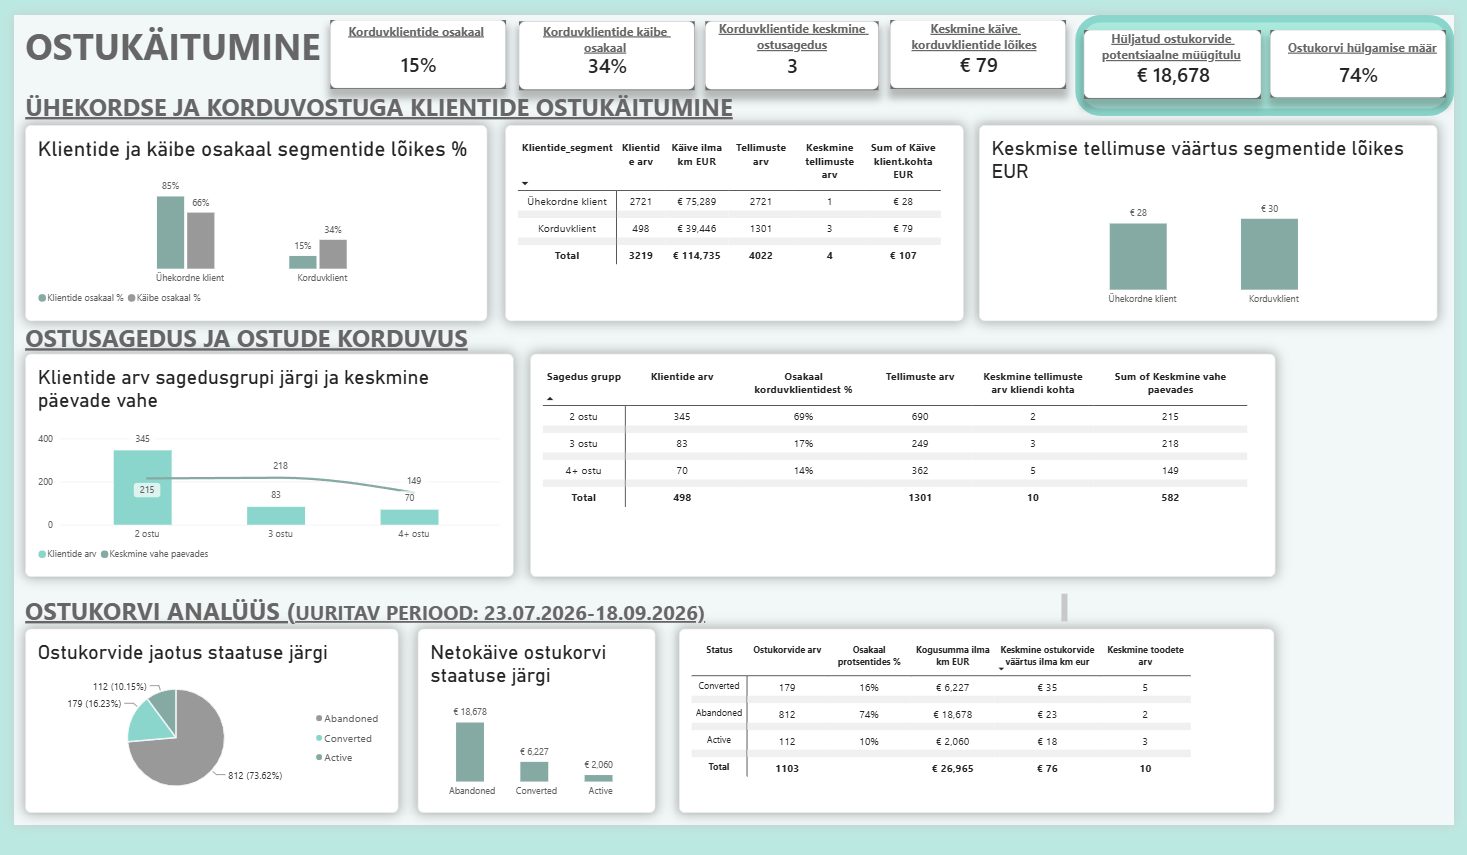

The dashboard page shown, as its layout file describes it:
{"tool":"powerbi","page":{"name":"OSTUKÄITUMINE","canvas":[1920,1080],"ordinal":1},"visuals":[{"type":"shape","box":[1414.7,0,505.3,134.7],"z":0},{"type":"textbox","box":[14.5,8.7,440.6,71.2],"z":1000},{"type":"cardVisual","fields":{"Data":["Avg(2 1 Ühekord kord kl käitumine.Klientide osakaal %)"]},"box":[421.4,6.3,234.5,91.9],"z":2000},{"type":"cardVisual","fields":{"Data":["Avg(2 1 Ühekord kord kl käitumine.Käibe osakaal %)"]},"box":[673.3,7.9,234.5,91.9],"z":3000},{"type":"cardVisual","fields":{"Data":["Sum(2 1 Ühekord kord kl käitumine.Käive klient.kohta EUR)"]},"box":[1169.1,6.3,234.5,91.9],"z":4000},{"type":"cardVisual","fields":{"Data":["2 2 Ostusagedus ja ostude kord.Korduvklientide_ostusagedus"]},"box":[922,7.9,231.3,91.9],"z":5000},{"type":"cardVisual","fields":{"Data":["Sum(2 3 Ostukorvi analüüs.Osakaal protsentides % vana)"]},"box":[1674.5,20.6,234.5,90.3],"z":6000},{"type":"clusteredColumnChart","title":"Klientide ja käibe osakaal segmentide lõikes %","fields":{"Category":["2 1 Ühekord kord kl käitumine.Klientide_segment"],"Y":["Sum(2 1 Ühekord kord kl käitumine.Klientide_osakaal_%)","Avg(2 1 Ühekord kord kl käitumine.Käibe_osakaal_%)"]},"box":[14.3,147.3,616.2,261.4],"z":7000},{"type":"clusteredColumnChart","title":"Keskmise tellimuse väärtus segmentide lõikes EUR","fields":{"Category":["2 1 Ühekord kord kl käitumine.Klientide_segment"],"Y":["Sum(2 1 Ühekord kord kl käitumine.Keskmine_tellimus_ilma_km_EUR)"]},"box":[1286.3,147.3,611.5,261.4],"z":8000},{"type":"pivotTable","fields":{"Rows":["2 1 Ühekord kord kl käitumine.Klientide_segment"],"Values":["Sum(2 1 Ühekord kord kl käitumine.Klientide_arv)","Sum(2 1 Ühekord kord kl käitumine.Käive ilma km EUR)","Sum(2 1 Ühekord kord kl käitumine.Tellimuste_arv)","Sum(2 1 Ühekord kord kl käitumine.Keskmine_tellimuste_arv)","Sum(2 1 Ühekord kord kl käitumine.Käive_klient_kohta_EUR)"]},"box":[654.3,147.3,611.5,261.4],"z":9000},{"type":"lineStackedColumnComboChart","title":"Klientide arv sagedusgrupi järgi ja keskmine päevade vahe","fields":{"Category":["2 2 Ostusagedus ja ostude kord.Sagedus_grupp"],"Y":["Sum(2 2 Ostusagedus ja ostude kord.Klientide_arv)"],"Y2":["Sum(2 2 Ostusagedus ja ostude kord.Keskmine vahe paevades)"]},"box":[14.3,451.5,651.1,297.8],"z":10000},{"type":"pivotTable","fields":{"Rows":["2 2 Ostusagedus ja ostude kord.Sagedus grupp"],"Values":["Sum(2 2 Ostusagedus ja ostude kord.Klientide arv)","2 2 Ostusagedus ja ostude kord.Osakaal korduvklientidest %","Sum(2 2 Ostusagedus ja ostude kord.Tellimuste arv)","Sum(2 2 Ostusagedus ja ostude kord.Keskmine tellimuste arv kliendi kohta)","Sum(2 2 Ostusagedus ja ostude kord.Keskmine vahe paevades)"]},"box":[687.5,451.5,993.3,297.8],"z":11000},{"type":"pieChart","title":"Ostukorvide jaotus staatuse järgi","fields":{"Category":["2 3 Ostukorvi analüüs.Status"],"Y":["Sum(2 3 Ostukorvi analüüs.Ostukorvide arv)"]},"box":[14.3,819,497.4,245.5],"z":12000},{"type":"clusteredColumnChart","title":"Netokäive ostukorvi staatuse järgi","fields":{"Category":["2 3 Ostukorvi analüüs.Status"],"Y":["Sum(2 3 Ostukorvi analüüs.Kogusumma ilma km EUR)"]},"box":[538.6,819,316.8,245.5],"z":13000},{"type":"pivotTable","fields":{"Rows":["2 3 Ostukorvi analüüs.Status"],"Values":["Sum(2 3 Ostukorvi analüüs.Ostukorvide arv)","2 3 Ostukorvi analüüs.Osakaal protsentides %","Sum(2 3 Ostukorvi analüüs.Kogusumma ilma km EUR)","Sum(2 3 Ostukorvi analüüs.Keskmine ostukorvide väärtus ilma km eur)","Sum(2 3 Ostukorvi analüüs.Keskmine toodete arv)"]},"box":[887.1,819,793.7,245.5],"z":14000},{"type":"textbox","box":[14.3,771.5,1389.3,47.5],"z":15000},{"type":"textbox","box":[14.3,99.8,958.4,47.5],"z":16000},{"type":"textbox","box":[14.3,408.7,763.6,84],"z":17000},{"type":"cardVisual","fields":{"Data":["Sum(2 3 Ostukorvi analüüs.Kogusumma ilma km EUR)"]},"box":[1427.3,20.6,236,91.9],"z":18000},{"type":"textbox","box":[26.7,753.3,503.3,83.3],"z":19000},{"type":"textbox","box":[441.3,8.7,188.4,45.3],"z":20000},{"type":"textbox","box":[687.5,9.5,199.6,58.6],"z":21000},{"type":"textbox","box":[1169.1,6.3,223.4,65],"z":22000},{"type":"textbox","box":[922,6.3,231.3,61.8],"z":23000},{"type":"textbox","box":[1425.7,20.6,236,60.2],"z":24000},{"type":"textbox","box":[1674.5,31.7,245.5,47.5],"z":25000}]}

Visuals, with their boxes in screenshot pixels (x1, y1, x2, y2):
shape: l=1074, t=34, r=1454, b=136
textbox: l=19, t=41, r=351, b=95
cardVisual - Avg(2 1 Ühekord kord kl käitumine.Klientide osakaal %): l=325, t=39, r=502, b=108
cardVisual - Avg(2 1 Ühekord kord kl käitumine.Käibe osakaal %): l=515, t=40, r=692, b=110
cardVisual - Sum(2 1 Ühekord kord kl käitumine.Käive klient.kohta EUR): l=889, t=39, r=1065, b=108
cardVisual - 2 2 Ostusagedus ja ostude kord.Korduvklientide_ostusagedus: l=702, t=40, r=877, b=110
cardVisual - Sum(2 3 Ostukorvi analüüs.Osakaal protsentides % vana): l=1269, t=50, r=1446, b=118
"Klientide ja käibe osakaal segmentide lõikes %" clusteredColumnChart: l=18, t=145, r=483, b=342
"Keskmise tellimuse väärtus segmentide lõikes EUR" clusteredColumnChart: l=977, t=145, r=1438, b=342
pivotTable - 2 1 Ühekord kord kl käitumine.Klientide_segment x Sum(2 1 Ühekord kord kl käitumine.Klientide_arv): l=501, t=145, r=961, b=342
"Klientide arv sagedusgrupi järgi ja keskmine päevade vahe" lineStackedColumnComboChart: l=18, t=375, r=509, b=599
pivotTable - 2 2 Ostusagedus ja ostude kord.Sagedus grupp x Sum(2 2 Ostusagedus ja ostude kord.Klientide arv): l=526, t=375, r=1274, b=599
"Ostukorvide jaotus staatuse järgi" pieChart: l=18, t=651, r=393, b=836
"Netokäive ostukorvi staatuse järgi" clusteredColumnChart: l=413, t=651, r=652, b=836
pivotTable - 2 3 Ostukorvi analüüs.Status x Sum(2 3 Ostukorvi analüüs.Ostukorvide arv): l=676, t=651, r=1274, b=836
textbox: l=18, t=616, r=1065, b=651
textbox: l=18, t=110, r=741, b=145
textbox: l=18, t=342, r=594, b=406
cardVisual - Sum(2 3 Ostukorvi analüüs.Kogusumma ilma km EUR): l=1083, t=50, r=1261, b=119
textbox: l=28, t=602, r=407, b=665
textbox: l=340, t=41, r=482, b=75
textbox: l=526, t=42, r=676, b=86
textbox: l=889, t=39, r=1057, b=88
textbox: l=702, t=39, r=877, b=86
textbox: l=1082, t=50, r=1260, b=95
textbox: l=1269, t=58, r=1454, b=94
